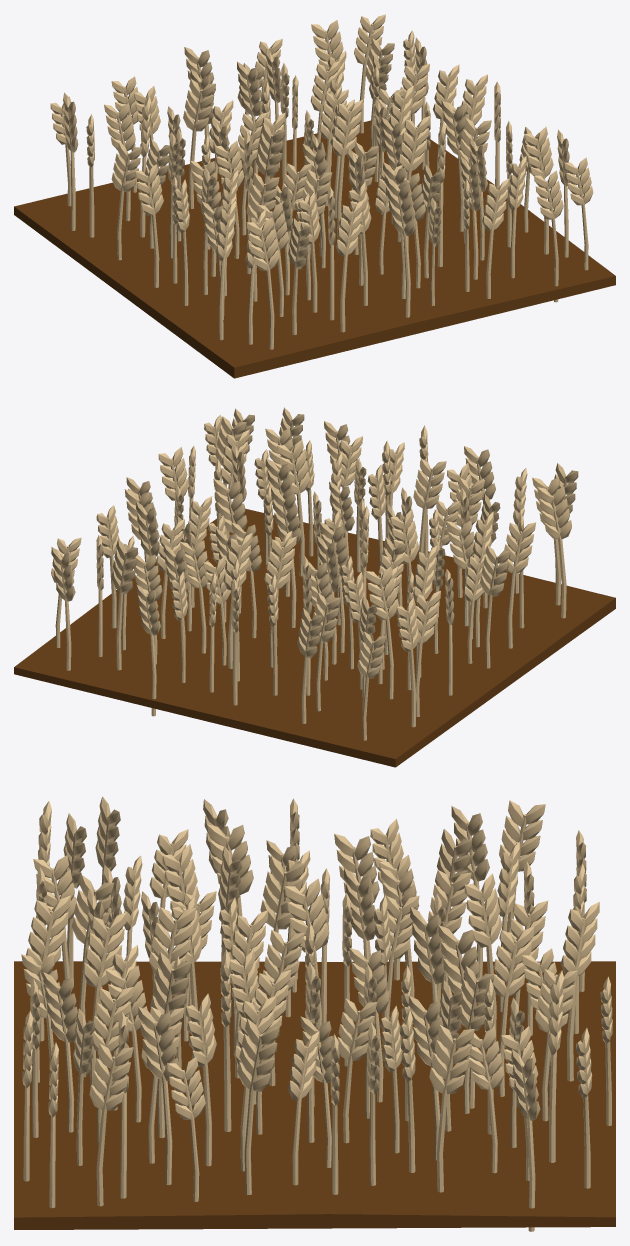
File: Wheat.fbx
3 renders of one model, top to bottom at view 1: azimuth 30°, elevation 25°; view 2: azimuth 150°, elevation 25°; view 3: azimuth 270°, elevation 25°, orthographic. The views are drawn at different scales.
Visible parts, largest first — view 1: Wheat, Corn.186, Corn.104, Corn.152, Corn.148, Corn.106, Corn.196, Corn.146, Corn.116, Corn.100, Corn.153, Corn.197 (+65 smaller); view 2: Wheat, Corn.197, Corn.192, Corn.199, Corn.196, Corn.134, Corn.152, Corn.119, Corn.162, Corn.191, Corn.149, Corn.157 (+65 smaller); view 3: Wheat, Corn.117, Corn.107, Corn.114, Corn.111, Corn.158, Corn.156, Corn.105, Corn.138, Corn.123, Corn.129, Corn.148 (+78 smaller).
Boxes of the visible parts, box(x1,y1,x2,y2) form: Wheat: box(14, 120, 615, 378); Corn.186: box(246, 217, 279, 349); Corn.104: box(386, 177, 416, 317); Corn.152: box(331, 99, 363, 238); Corn.148: box(183, 79, 215, 208); Corn.106: box(335, 200, 364, 332); Corn.196: box(135, 164, 163, 287); Corn.146: box(111, 143, 142, 260); Corn.116: box(534, 170, 563, 302); Corn.100: box(482, 178, 509, 298); Corn.153: box(398, 115, 430, 248); Corn.197: box(215, 201, 236, 340); Wheat: box(14, 508, 615, 767); Corn.197: box(537, 486, 571, 618); Corn.192: box(365, 566, 399, 699); Corn.199: box(504, 522, 535, 648); Corn.196: box(480, 545, 510, 668); Corn.134: box(111, 539, 138, 670); Corn.152: box(271, 487, 301, 627); Corn.119: box(277, 439, 310, 576); Corn.162: box(413, 458, 446, 568); Corn.191: box(396, 597, 419, 727); Corn.149: box(414, 591, 440, 716); Corn.157: box(264, 536, 296, 667); Wheat: box(14, 961, 615, 1229); Corn.117: box(429, 1025, 474, 1192); Corn.107: box(237, 1018, 279, 1194); Corn.114: box(89, 1043, 133, 1206); Corn.111: box(138, 1006, 179, 1184); Corn.158: box(560, 901, 599, 1081); Corn.156: box(492, 927, 534, 1096); Corn.105: box(82, 912, 127, 1087); Corn.138: box(43, 972, 77, 1132); Corn.123: box(185, 993, 216, 1166); Corn.129: box(337, 998, 377, 1143); Corn.148: box(464, 873, 502, 1042).
Bounding box in the file's own units: 1.57 × 0.604 × 1.57.
